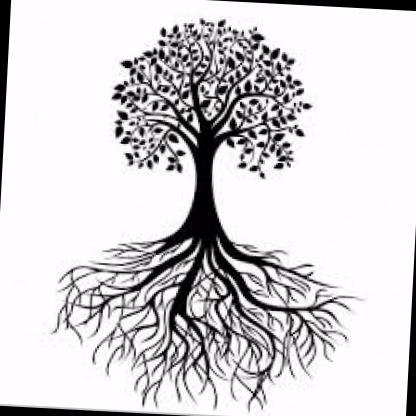root_only: (45, 212, 368, 416)
trunk_straight: (186, 159, 222, 221)
